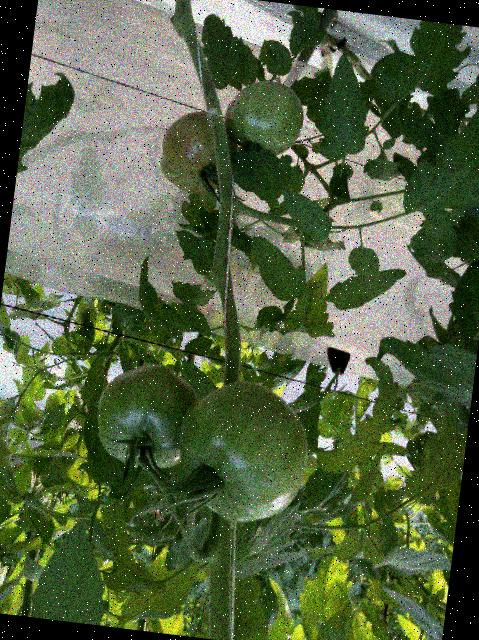b_green: (168, 374, 318, 530), (91, 356, 201, 474), (220, 75, 308, 160)
b_half_ripened: (156, 106, 241, 197)
